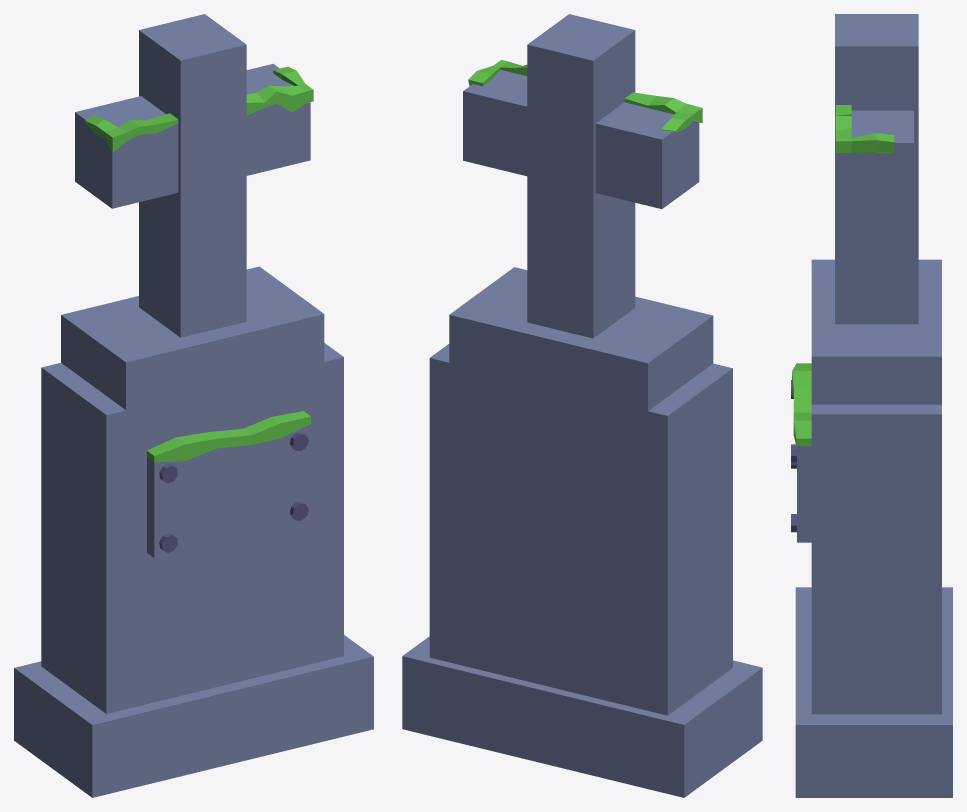
The model's file is Toombstone_01.fbx.
3 renders of one model, left to right at view 1: azimuth 30°, elevation 25°; view 2: azimuth 150°, elevation 25°; view 3: azimuth 270°, elevation 25°, orthographic.
Parts seen in each view (by area): view 1: Toombstone 1; view 2: Toombstone 1; view 3: Toombstone 1.
Part boxes in pixels (x1,y1,x2,y2): Toombstone 1: [14, 14, 373, 797]; Toombstone 1: [402, 14, 762, 797]; Toombstone 1: [791, 14, 952, 797].
Bounding box in the file's own units: 99.3 × 235 × 49.26.
